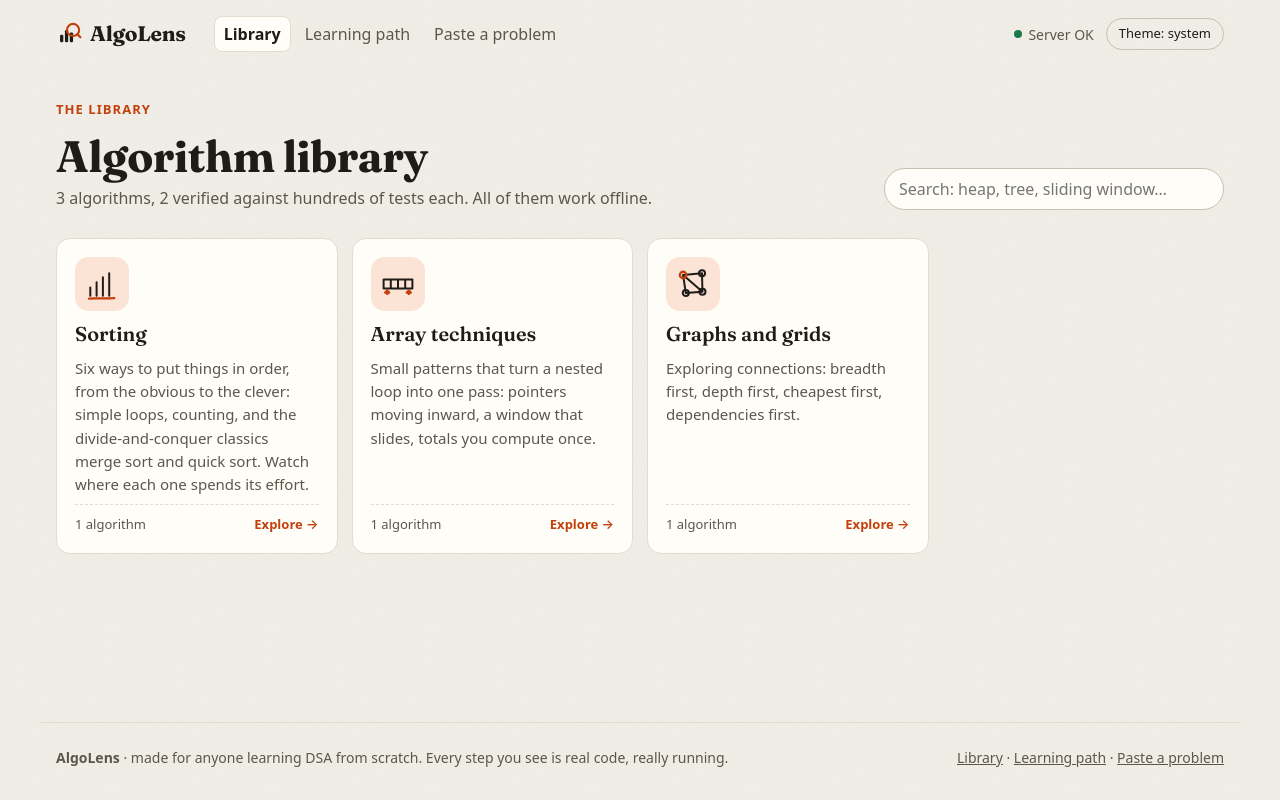
Test: search on the library page finds algorithms across topics
Expected: the link "Sorting" is shown, [75,321,147,346]
Expected: the text "3 algorithms, 2 verified" is shown, [56,187,652,209]
In the search field named "Search the library": (1054, 189) [884,168,1224,210], type "cheapest"
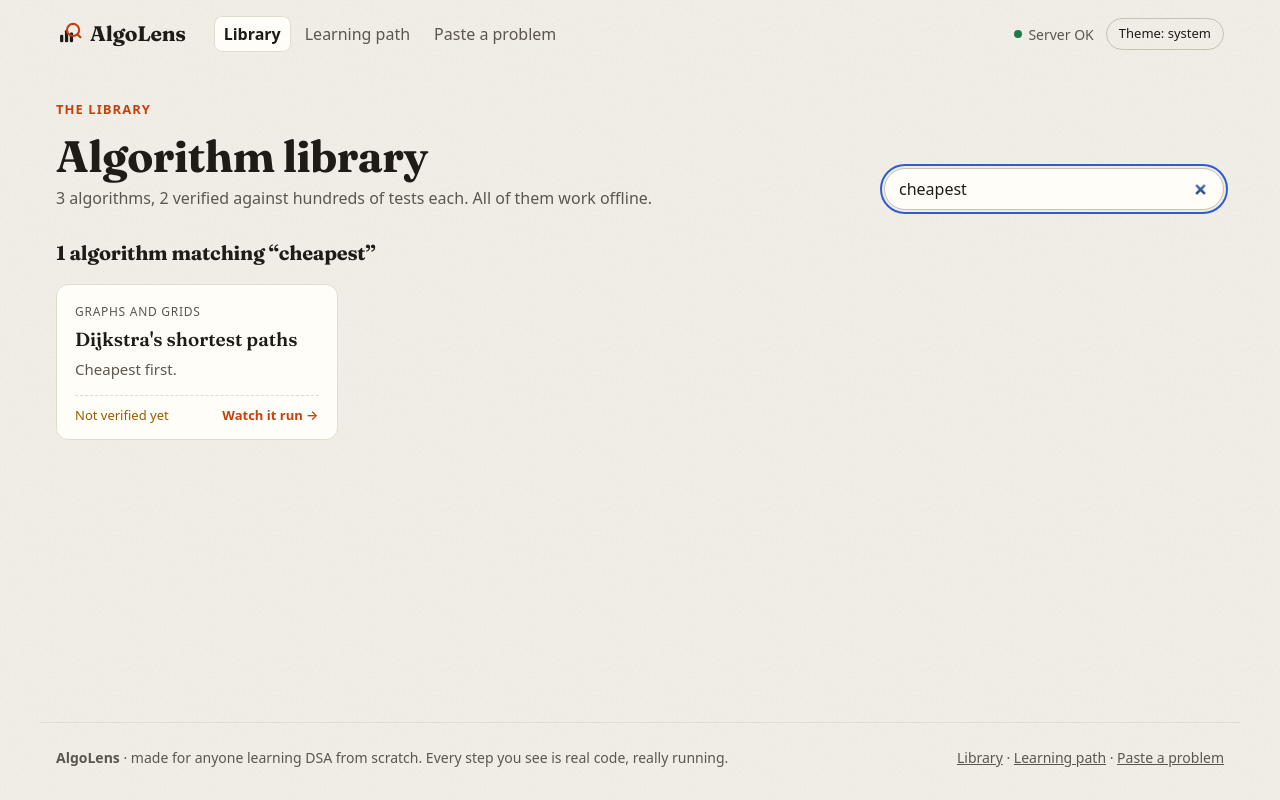
Expected: the link "Dijkstra's shortest paths" is shown, [75,327,318,352]
Expected: the text "Not verified yet" is shown, [75,406,169,425]
Replace the text in the search field named "Search the library" with "zzz": (1054, 189) [884,168,1224,210]
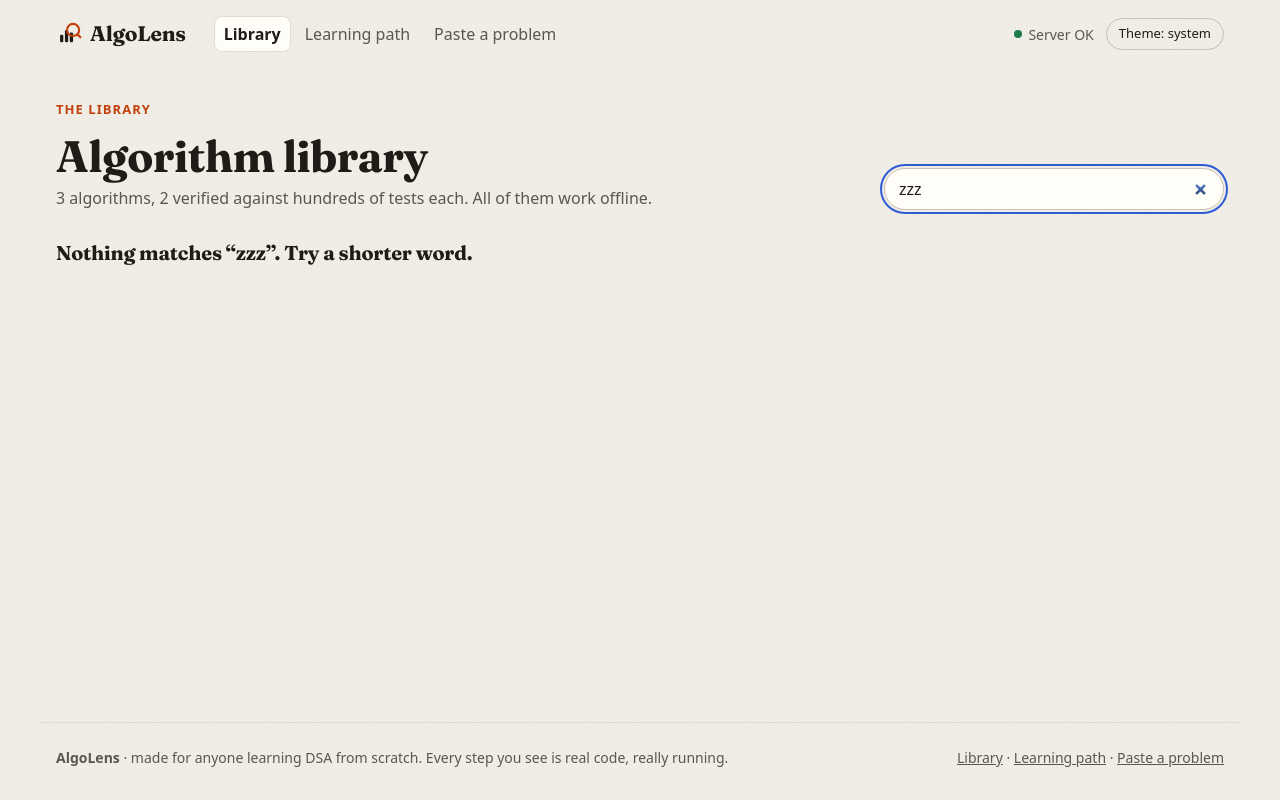
Expected: the heading "Nothing matches “zzz”. Try a shorter word." is shown, [56,240,472,265]
